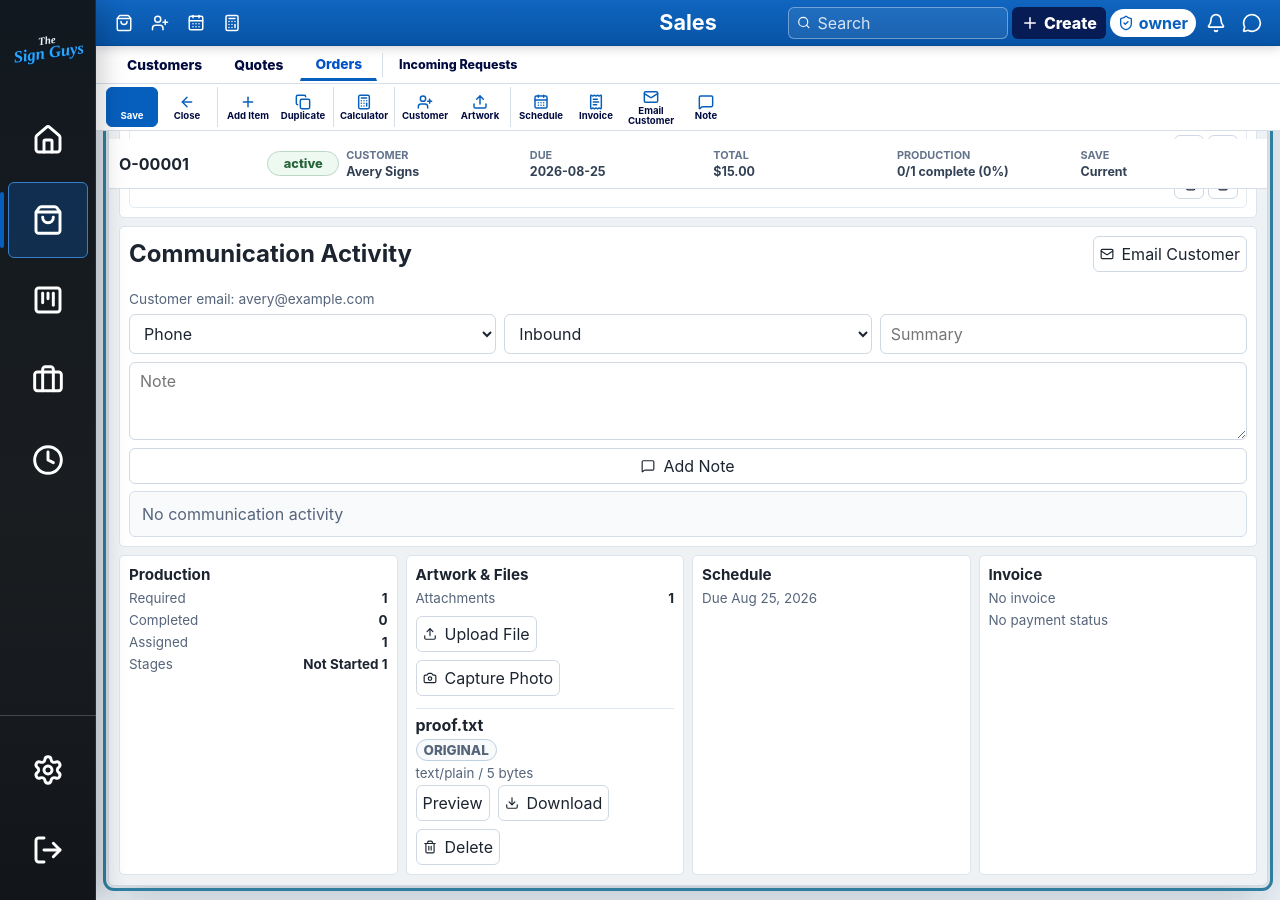
Test: Part 2 UI › revokes an attachment preview Blob URL when the Workspace unmounts
(page scrolled)
Click the button "Preview" at (452, 802), box x1=416 y1=784 x2=490 y2=820
(page scrolled)
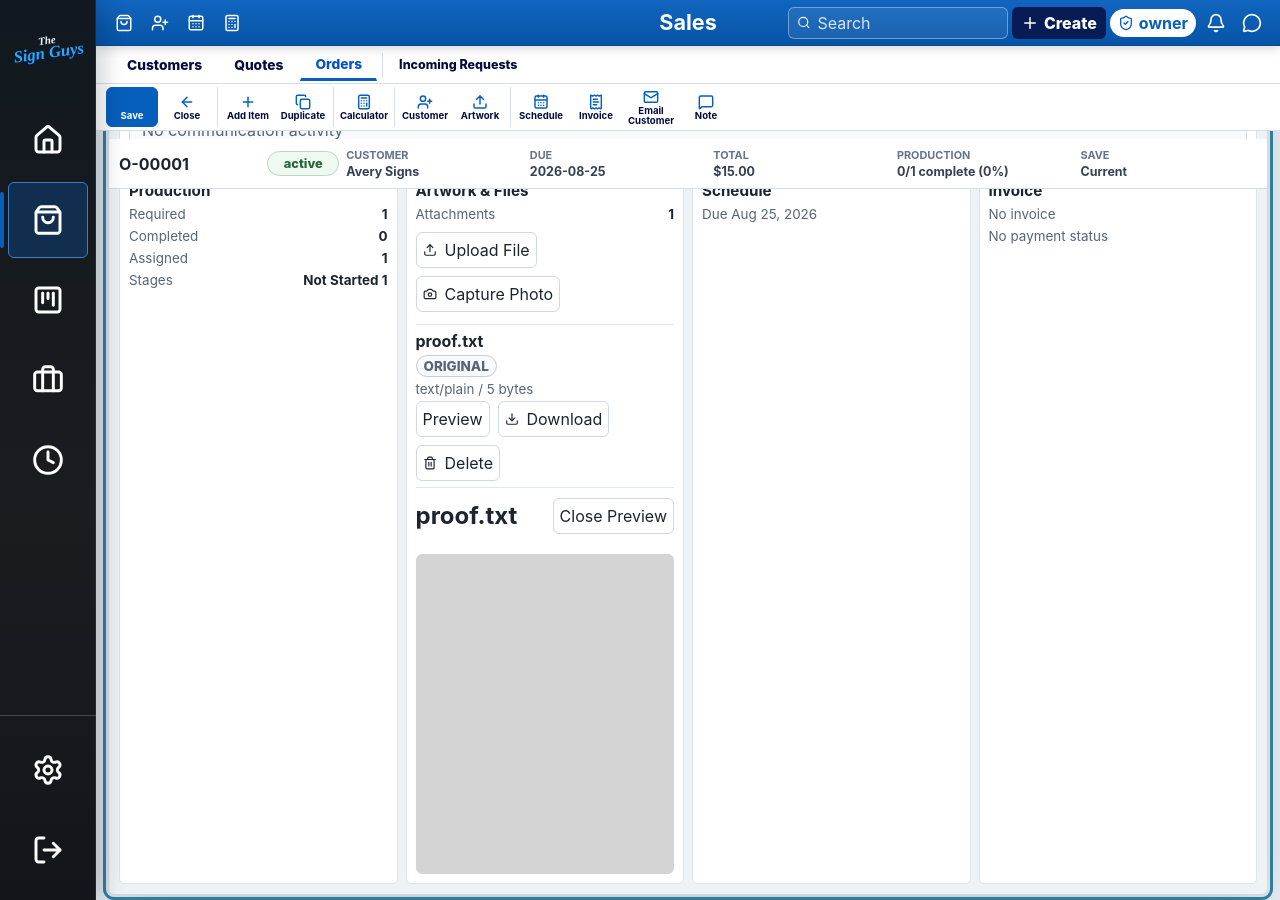
Expected: the button "Close Preview" is shown, x1=553 y1=498 x2=674 y2=534
